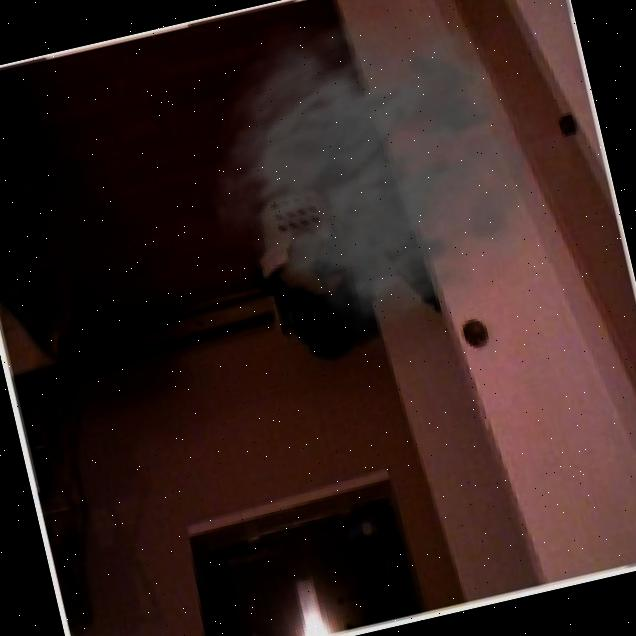smoke: (172, 0, 613, 385)
